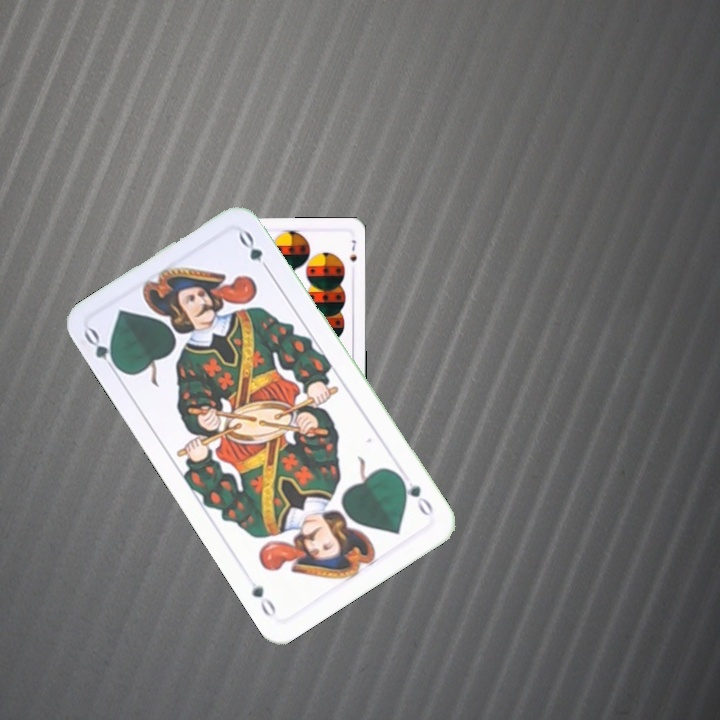GO: (79, 324, 124, 378), (394, 471, 436, 519)
